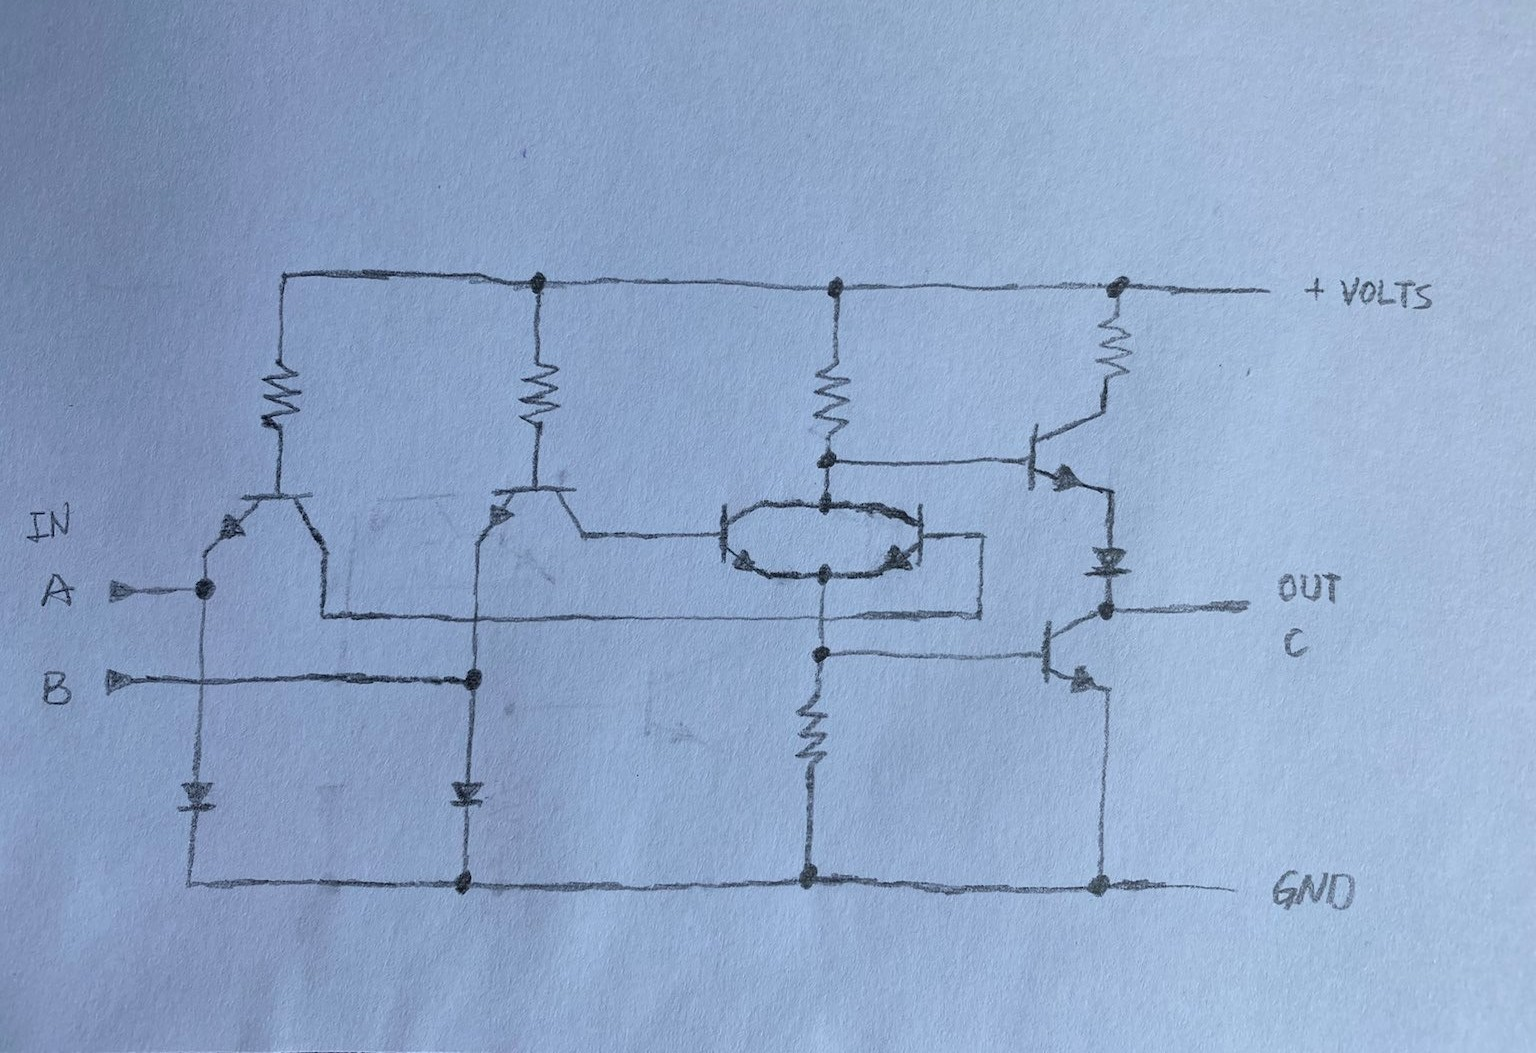diode: (172, 766, 225, 824), (442, 766, 493, 823), (1082, 534, 1140, 583)
junction: (1077, 860, 1132, 911), (182, 662, 233, 711), (440, 860, 491, 909), (303, 593, 356, 632), (787, 852, 829, 900), (796, 634, 847, 672), (172, 860, 216, 905), (1098, 269, 1144, 309), (451, 664, 503, 699), (814, 271, 857, 313), (454, 601, 502, 639), (518, 260, 556, 306), (962, 595, 999, 634), (1087, 590, 1124, 627), (189, 571, 224, 608), (267, 263, 307, 294), (808, 560, 847, 591), (814, 442, 847, 476), (814, 487, 844, 524), (800, 604, 840, 627), (971, 519, 997, 555)
resistor: (256, 350, 312, 444), (514, 351, 566, 442), (812, 350, 861, 442), (789, 693, 837, 774), (1094, 313, 1144, 389)
terminal: (1194, 586, 1264, 619), (100, 658, 152, 700), (1192, 874, 1255, 904), (103, 571, 151, 608), (1238, 276, 1282, 306)
text: (1262, 864, 1368, 920), (1339, 271, 1434, 318), (1270, 564, 1346, 607), (22, 500, 75, 551), (32, 569, 82, 612), (36, 665, 75, 709), (1277, 623, 1313, 661), (1301, 271, 1328, 308)
transistor: (196, 484, 354, 565), (465, 480, 610, 557), (1019, 411, 1124, 497), (701, 483, 780, 591), (858, 491, 945, 585), (1031, 599, 1099, 703)
